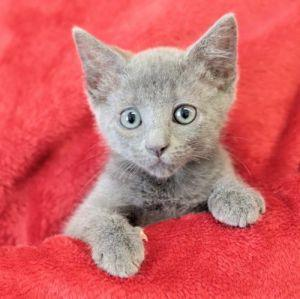rblue: (54, 10, 254, 201)
